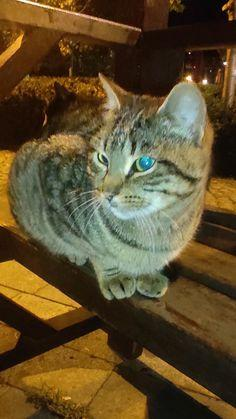kedo: (12, 74, 214, 299)
